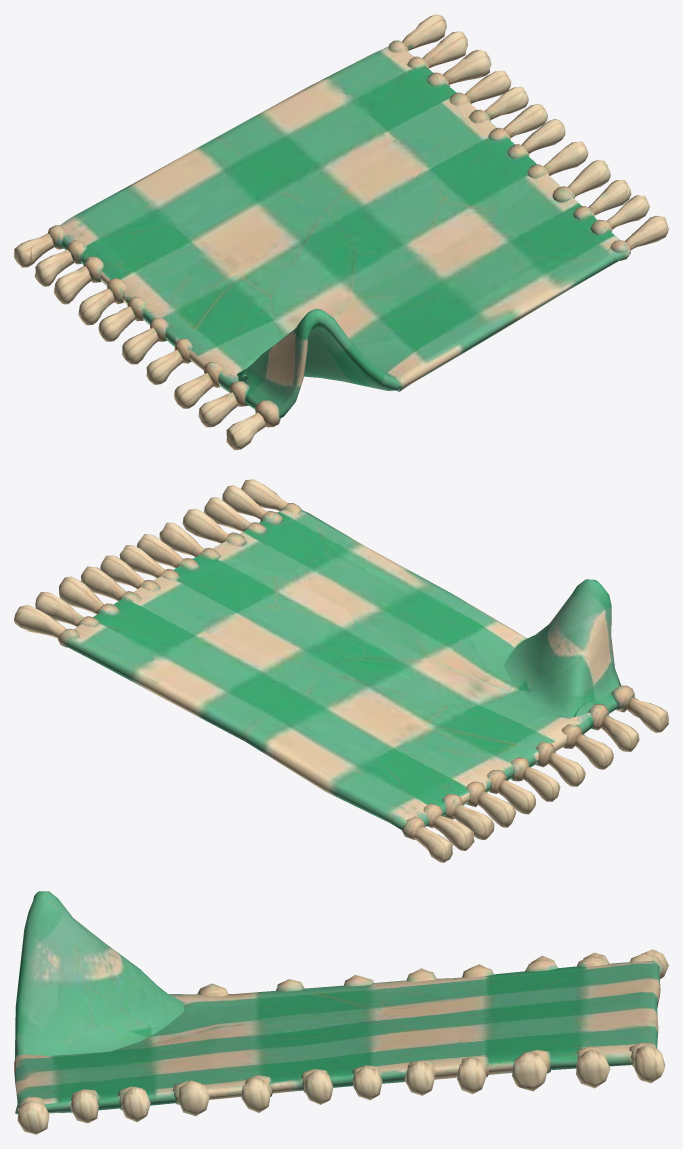
File: carpet.glb
The picture shows the model from 3 angles, top to bottom: view 1: azimuth 30°, elevation 25°; view 2: azimuth 150°, elevation 25°; view 3: azimuth 270°, elevation 25°; orthographic projection. The views are drawn at different scales.
Size of the model in its own units: 1 by 0.4037 by 0.9631.
Materials: 1 (1 with a texture image).
